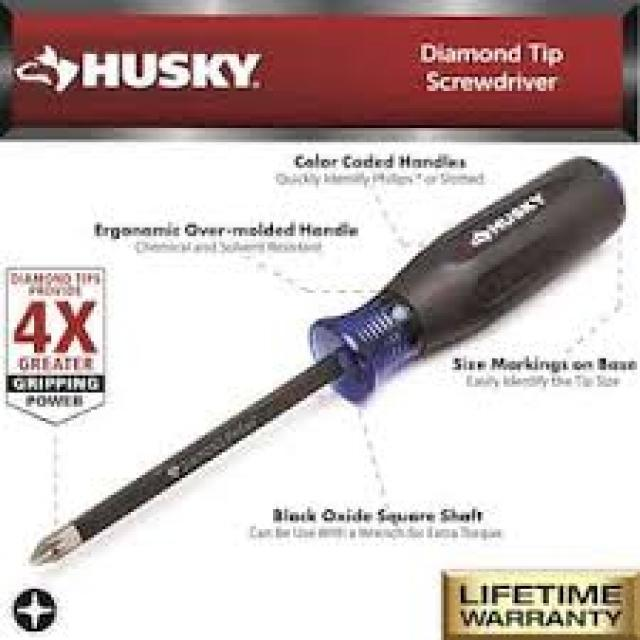screwdriver: (23, 154, 626, 572)
